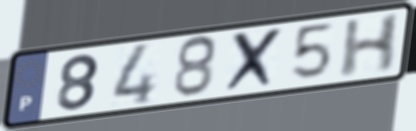4: (109, 42, 160, 107)
5: (289, 20, 335, 83)
8: (170, 34, 221, 102), (55, 52, 100, 113)
H: (336, 10, 405, 81)
X: (220, 24, 287, 96)
